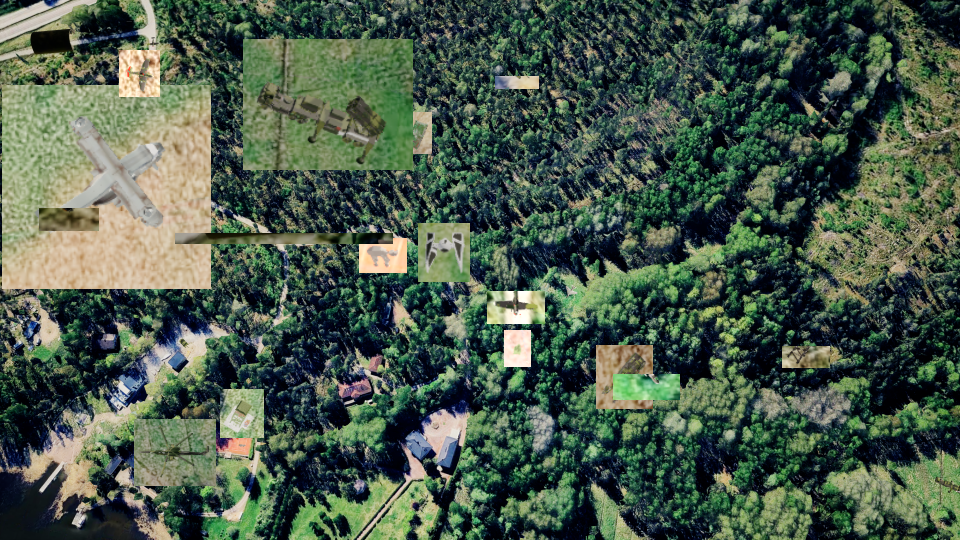condor: (2, 85, 211, 289)
hangar: (175, 233, 393, 244)
helicopter: (134, 419, 216, 486)
jammer: (399, 112, 432, 154)
jet_plane: (613, 374, 680, 400)
large_launcher: (243, 39, 413, 170)
large_tower: (782, 346, 830, 368)
medium_launcher: (39, 208, 99, 231)
medium_plane: (487, 291, 545, 324)
mine_roller: (596, 345, 653, 409)
small_launcher: (504, 330, 531, 367)
small_plane: (119, 50, 160, 97)
small_tower: (220, 389, 264, 438)
spacecraft: (418, 223, 470, 282)
ta-ta: (359, 238, 407, 273)
tank: (495, 76, 539, 89)
